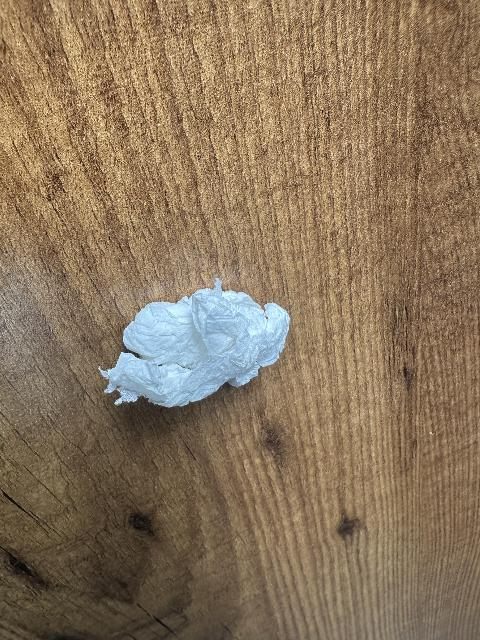Kagit: (92, 274, 293, 410)
